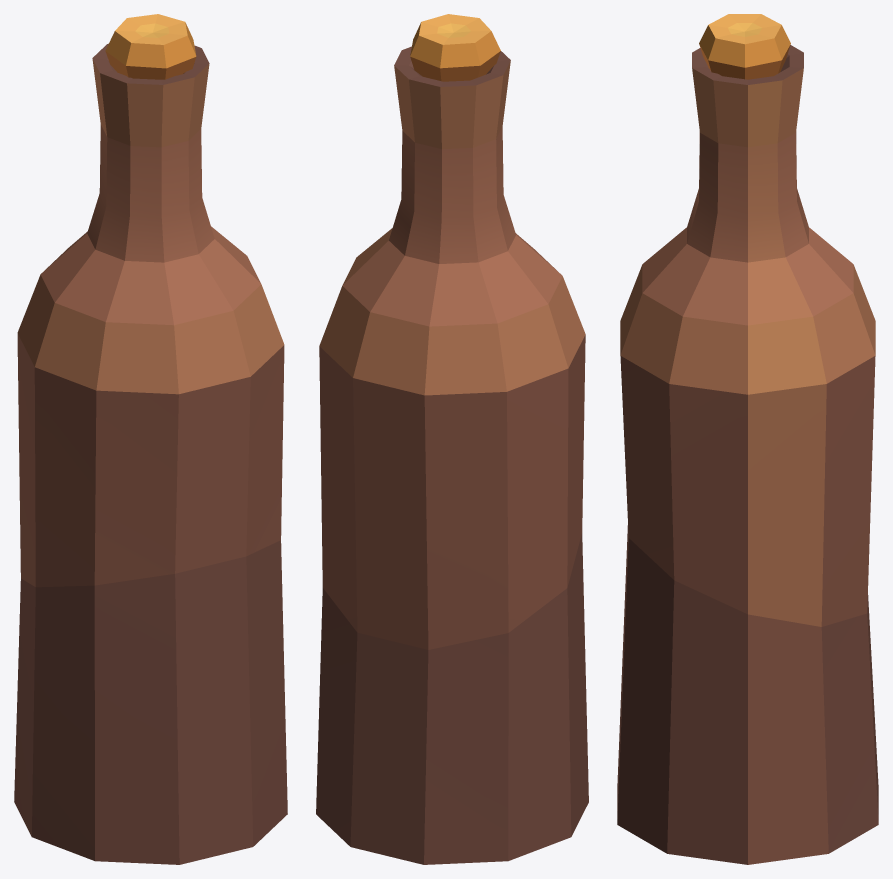
File: bottle_I.fbx
3 views of the same model, side by side, from view 1: azimuth 30°, elevation 25°; view 2: azimuth 150°, elevation 25°; view 3: azimuth 270°, elevation 25° (orthographic).
Visible parts, largest first — view 1: bottle; view 2: bottle; view 3: bottle.
Part boxes in pixels (bbox=[...]): bottle: bbox=[14, 14, 287, 864]; bottle: bbox=[316, 14, 588, 864]; bottle: bbox=[617, 14, 878, 864].
Bounding box in the file's own units: 8.28 × 25.87 × 7.87.
